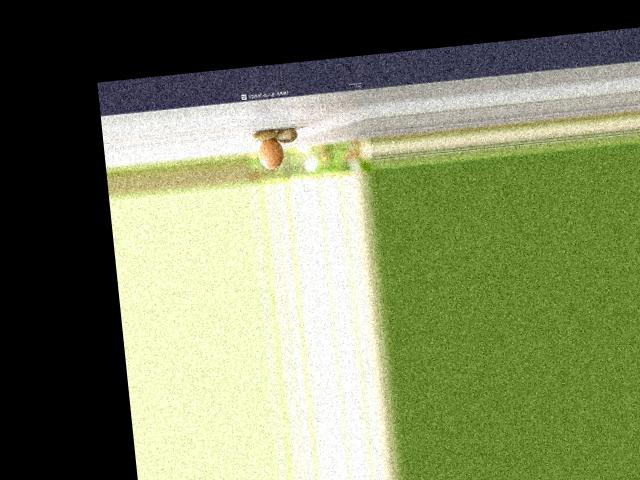egg: (257, 137, 285, 169)
